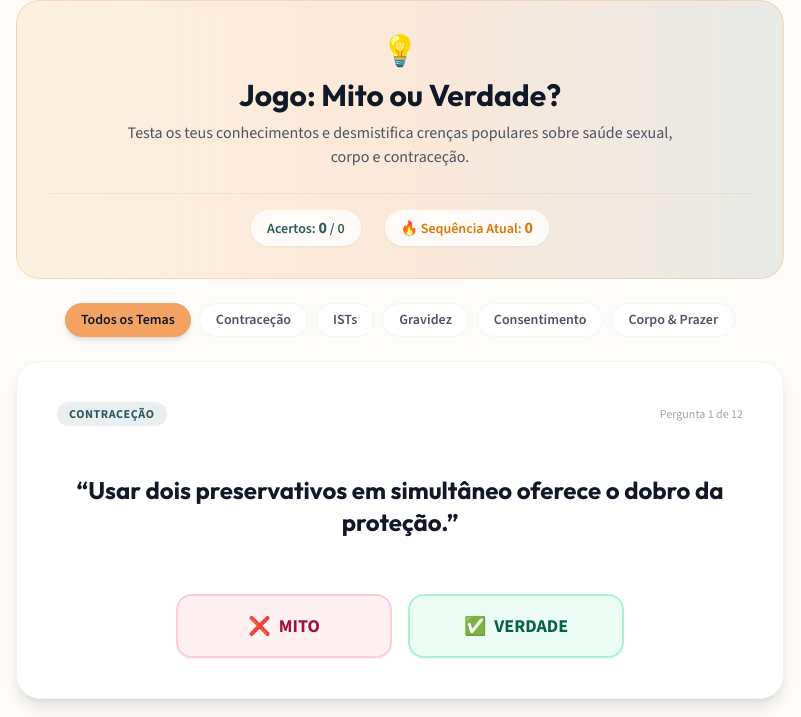
it: MythBusterGame › shows correct feedback when answering correctly (m1 is false → 'Mito' = correct)
The width and height of the screenshot is (801, 717).
Step 1. Click the button "❌ MITO" → (284, 626), box [176, 594, 392, 658]
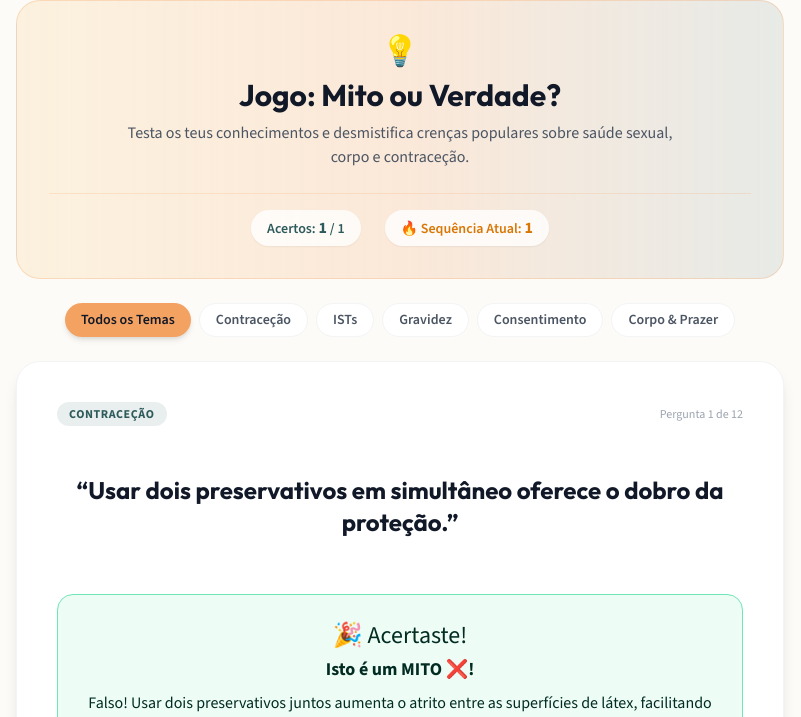
Expected: the text "🎉 Acertaste!" is shown, [333, 619, 467, 651]
Expected: the text "Isto é um MITO ❌!" is shown, [326, 657, 474, 681]
